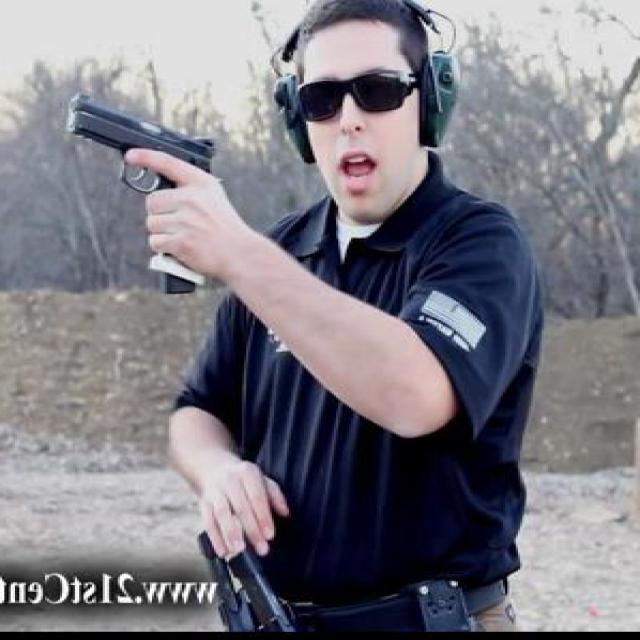Gun: (64, 90, 221, 292)
